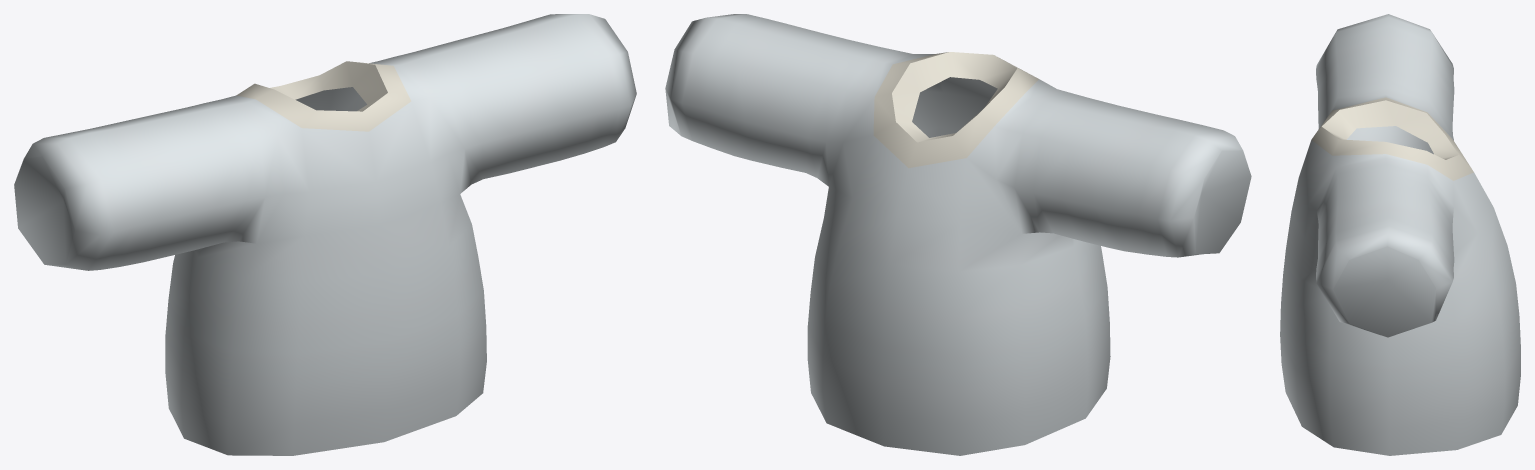
File: Top_5.fbx
3 views of the same model, side by side, from view 1: azimuth 30°, elevation 25°; view 2: azimuth 150°, elevation 25°; view 3: azimuth 270°, elevation 25° (orthographic). The views are drawn at different scales.
Parts seen in each view (by area): view 1: Top_5; view 2: Top_5; view 3: Top_5.
Boxes of the visible parts, <box> form: Top_5: <box>14,14,636,455</box>; Top_5: <box>665,14,1251,455</box>; Top_5: <box>1280,14,1520,455</box>.
Size of the model in its own units: 83.07 by 47.57 by 36.49.
